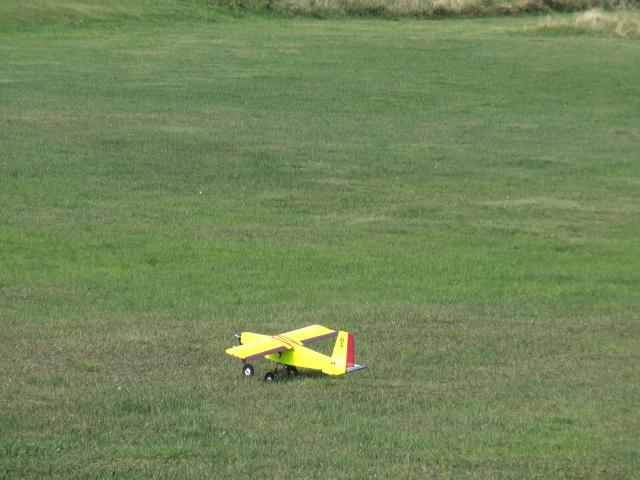plane: (224, 323, 364, 381)
